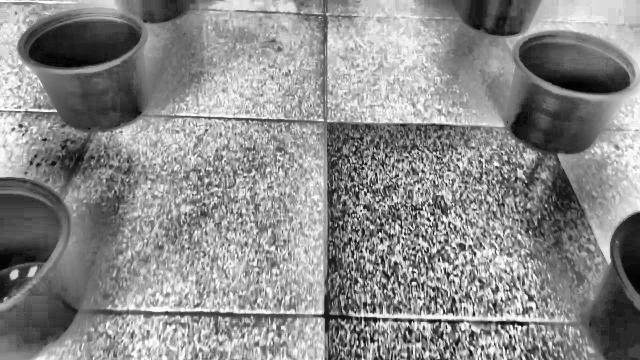pot: (506, 29, 640, 153), (17, 7, 151, 131), (0, 178, 82, 360), (588, 213, 640, 360)
